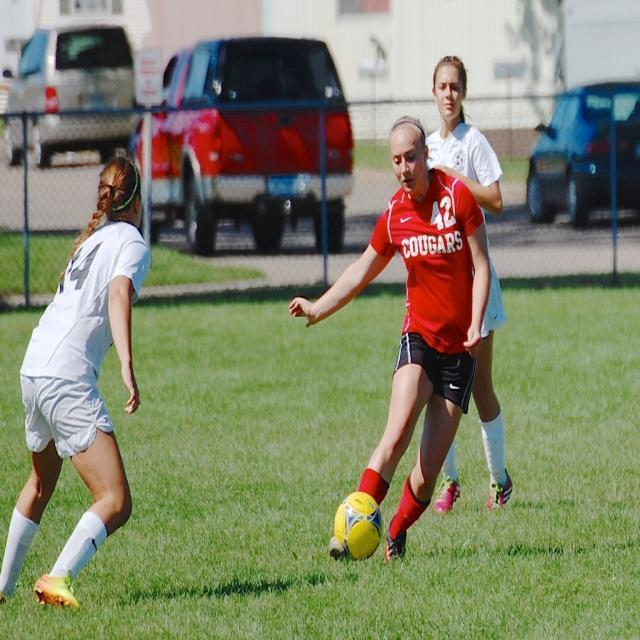football: (311, 472, 397, 571)
